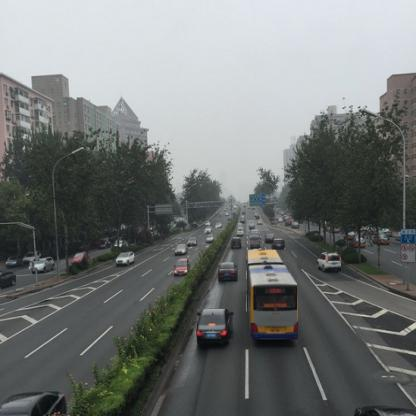bus: (248, 251, 299, 339)
car: (3, 391, 69, 416), (198, 310, 235, 341), (320, 253, 343, 273), (219, 263, 240, 283), (2, 269, 18, 293), (118, 251, 136, 269), (30, 261, 53, 273), (174, 259, 189, 277), (72, 252, 88, 265), (24, 252, 41, 263), (232, 237, 242, 251), (251, 237, 261, 251), (375, 235, 390, 244), (275, 240, 287, 250), (353, 241, 368, 249), (177, 245, 187, 255), (267, 234, 276, 245), (190, 236, 198, 248), (205, 236, 214, 245), (237, 229, 245, 239), (206, 228, 213, 237), (216, 223, 222, 230), (253, 229, 260, 235), (249, 222, 256, 228), (294, 224, 300, 230)
